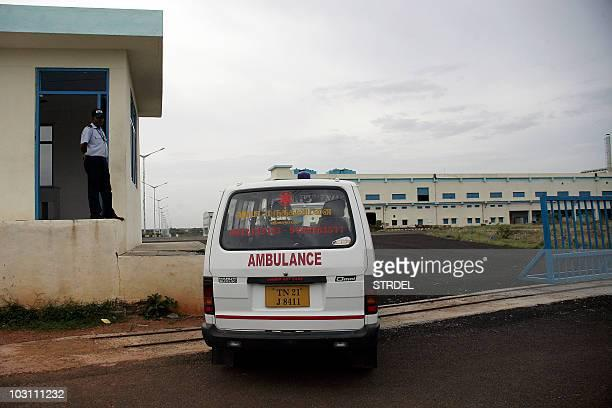Emergency-Vehicles: (184, 152, 390, 377)
